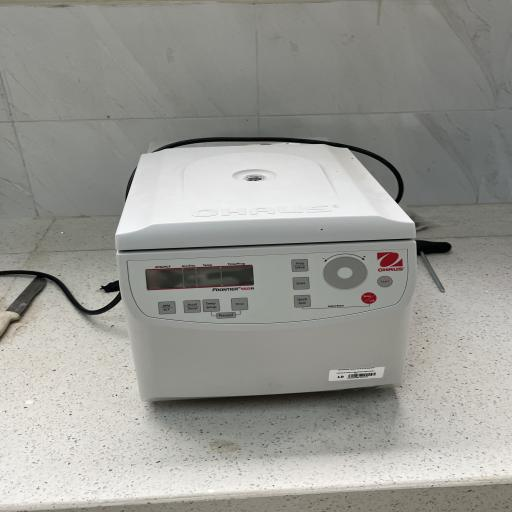Centrifuga_Ohaus_Frontier: (103, 134, 424, 413)
